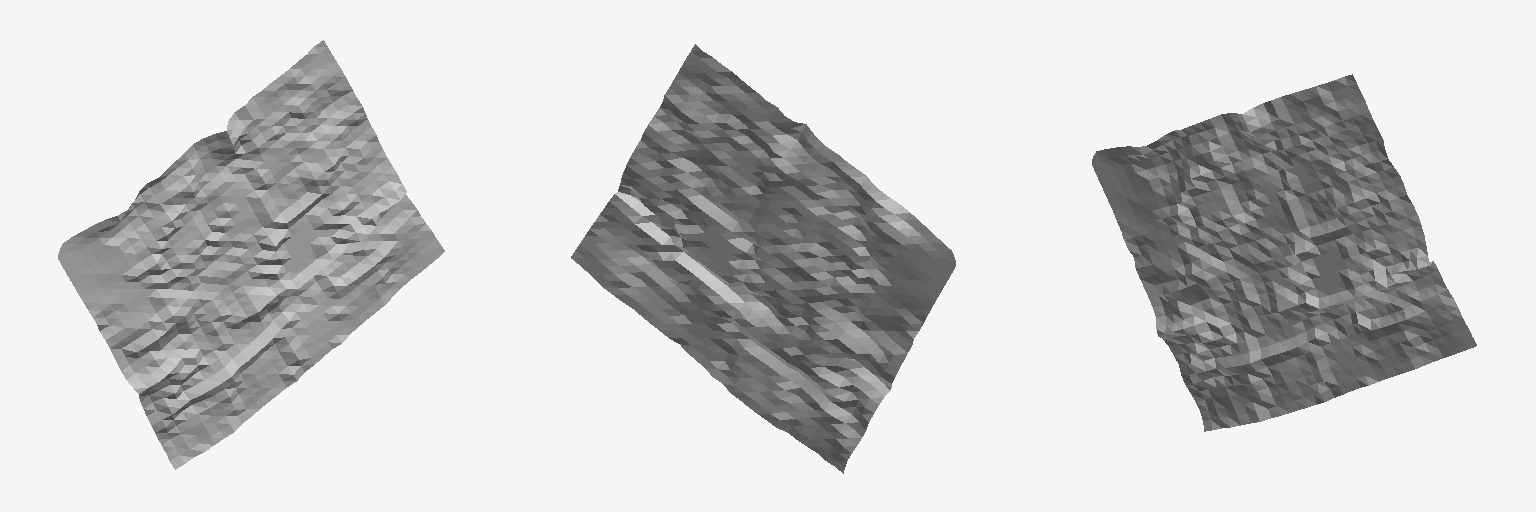
Rendered from carpet01.obj.
The picture shows the model from 3 angles: view 1: azimuth 30°, elevation 25°; view 2: azimuth 150°, elevation 25°; view 3: azimuth 330°, elevation 25°; orthographic projection.
Parts seen in each view (by area): view 1: carpet01; view 2: carpet01; view 3: carpet01.
Boxes of the visible parts, x1,y1,x2,y2 form: carpet01: [58, 40, 444, 469]; carpet01: [571, 44, 955, 473]; carpet01: [1092, 74, 1476, 431].
Size of the model in its own units: 109 by 106 by 5.52.